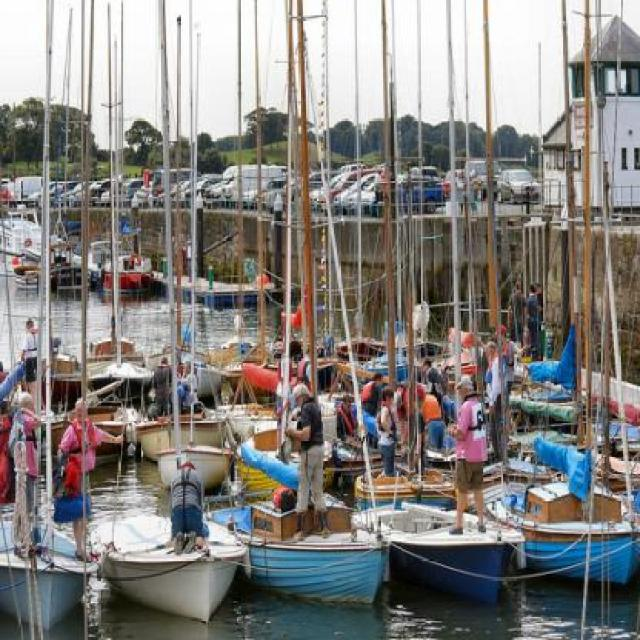ship: (200, 0, 386, 609), (91, 0, 246, 623), (352, 26, 516, 612), (486, 0, 637, 592), (0, 0, 78, 623), (135, 0, 223, 466), (156, 34, 232, 495), (79, 0, 155, 398), (73, 234, 155, 295), (0, 207, 46, 271), (40, 236, 89, 295)
